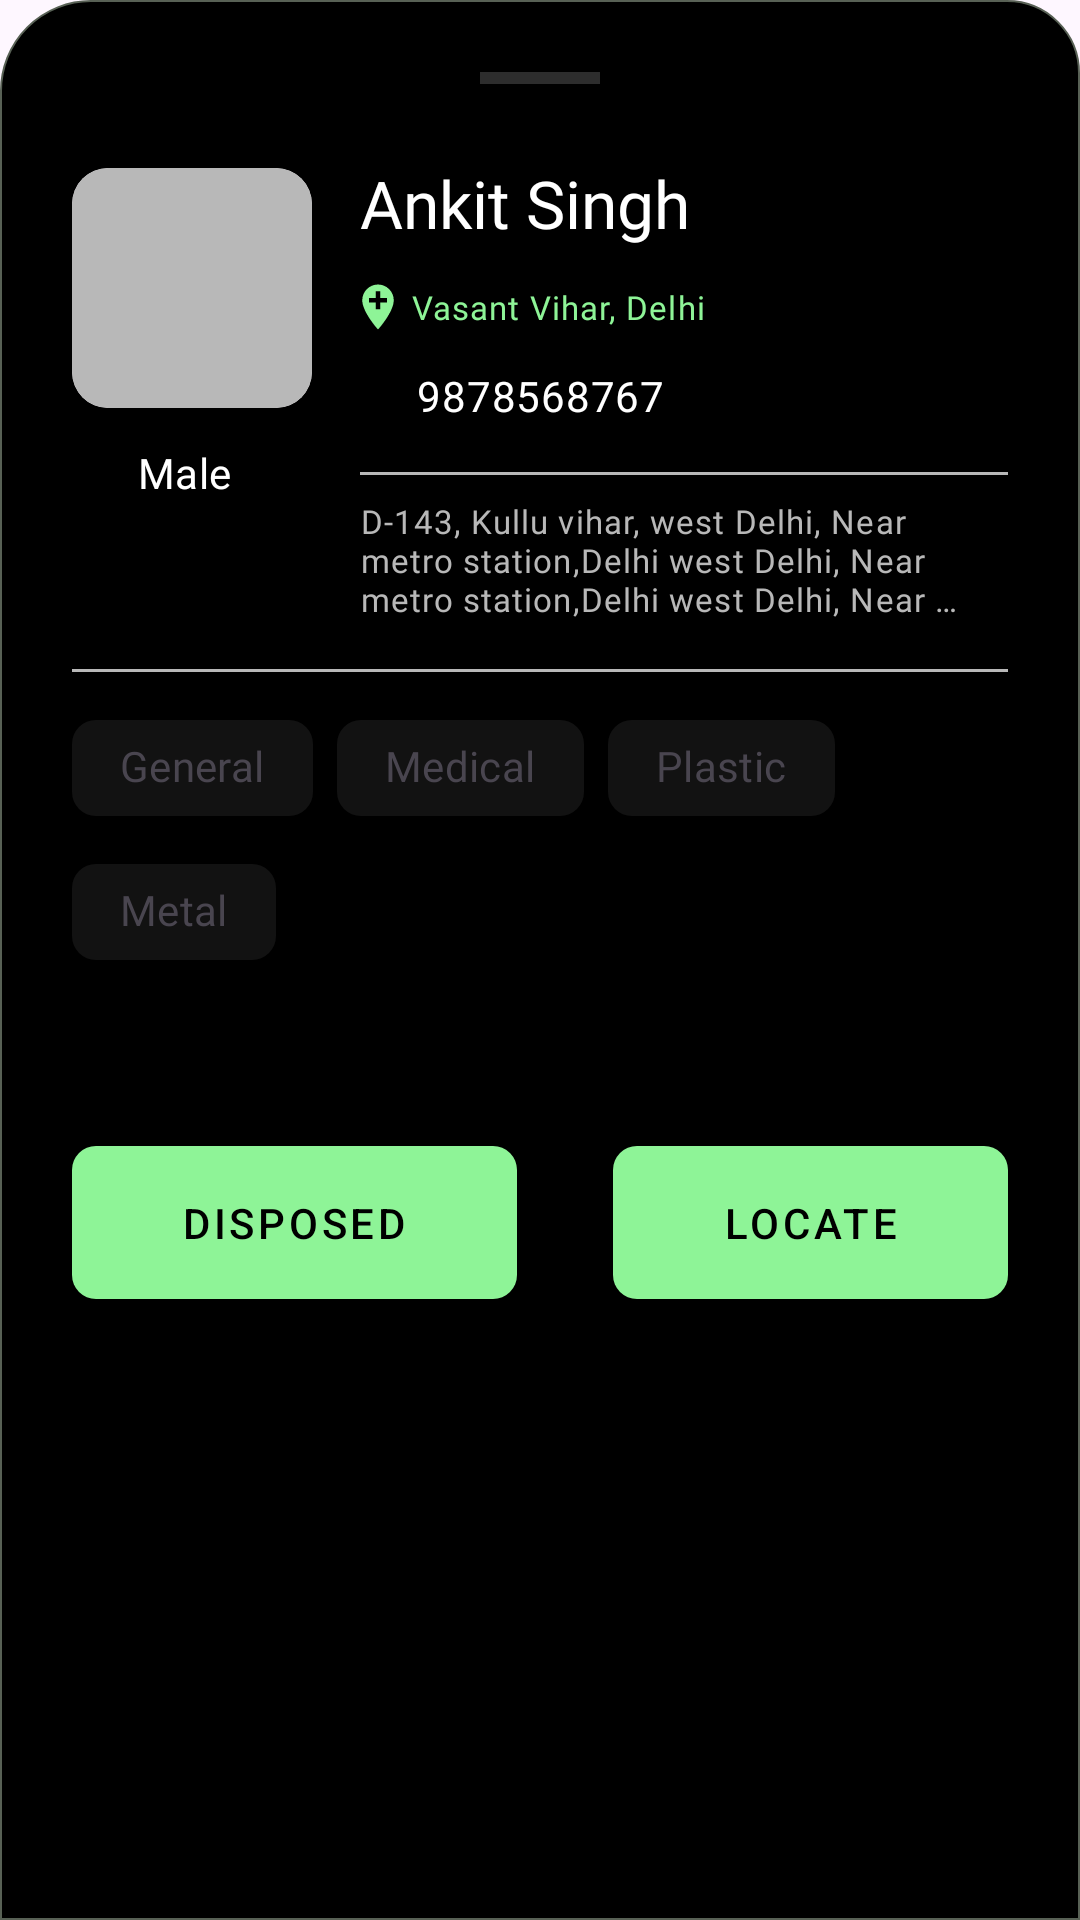

Named icons in this screenshot (1080×1920) and their centers, point (x, y):
add location: point (378, 306)
